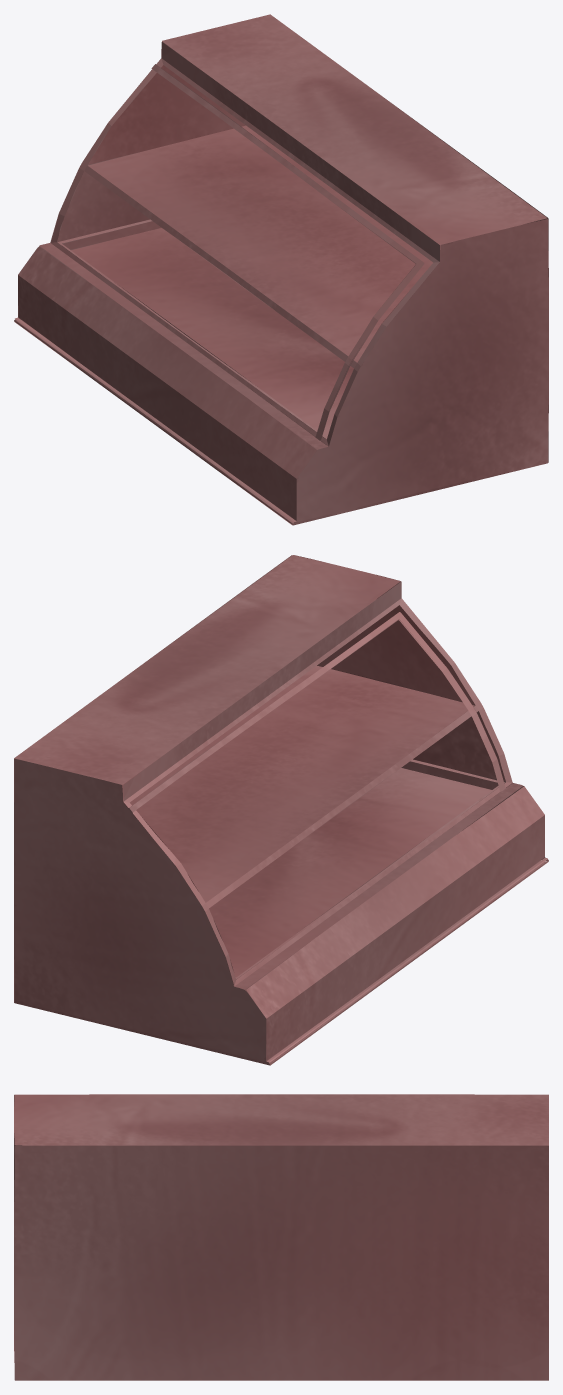
File: Deli.fbx
3 views of the same model, one above another, from view 1: azimuth 30°, elevation 25°; view 2: azimuth 150°, elevation 25°; view 3: azimuth 270°, elevation 25° (orthographic). The views are drawn at different scales.
Parts seen in each view (by area): view 1: deli_stand, deli_glass; view 2: deli_stand, deli_glass; view 3: deli_stand.
Boxes of the visible parts, x1,y1,x2,y2 form: deli_stand: (14, 14, 548, 525); deli_glass: (151, 64, 424, 440); deli_stand: (14, 555, 548, 1065); deli_glass: (128, 612, 505, 812); deli_stand: (14, 1094, 548, 1380).
Size of the model in its own units: 765 by 407 by 371.
